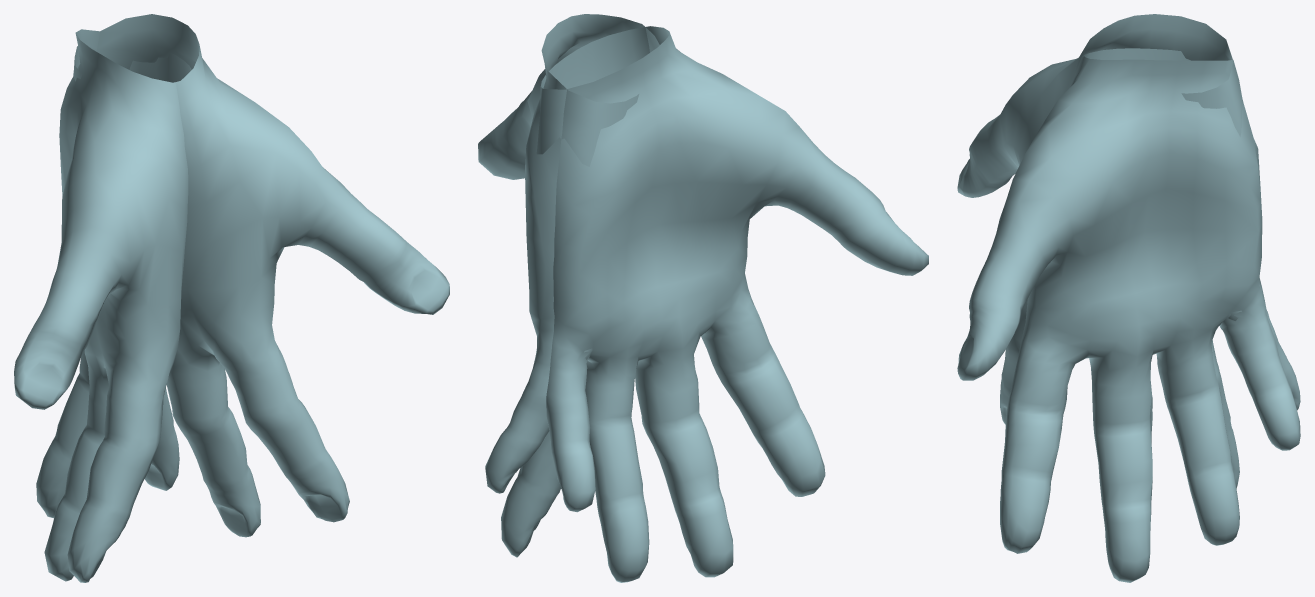
The model's file is clinical-hands.glb.
3 renders of one model, left to right at view 1: azimuth 30°, elevation 25°; view 2: azimuth 150°, elevation 25°; view 3: azimuth 270°, elevation 25°, orthographic. The views are drawn at different scales.
Visible parts, largest first — view 1: Glove_R, Glove_L; view 2: Glove_L, Glove_R; view 3: Glove_R, Glove_L.
Part boxes in pixels (x1,y1,x2,y2): Glove_R: (73,14,449,537); Glove_L: (14,29,191,582); Glove_L: (536,26,928,582); Glove_R: (478,14,659,557); Glove_R: (957,48,1300,582); Glove_L: (957,14,1300,488).
Bounding box in the file's own units: 0.1761 × 0.1995 × 0.1234.
